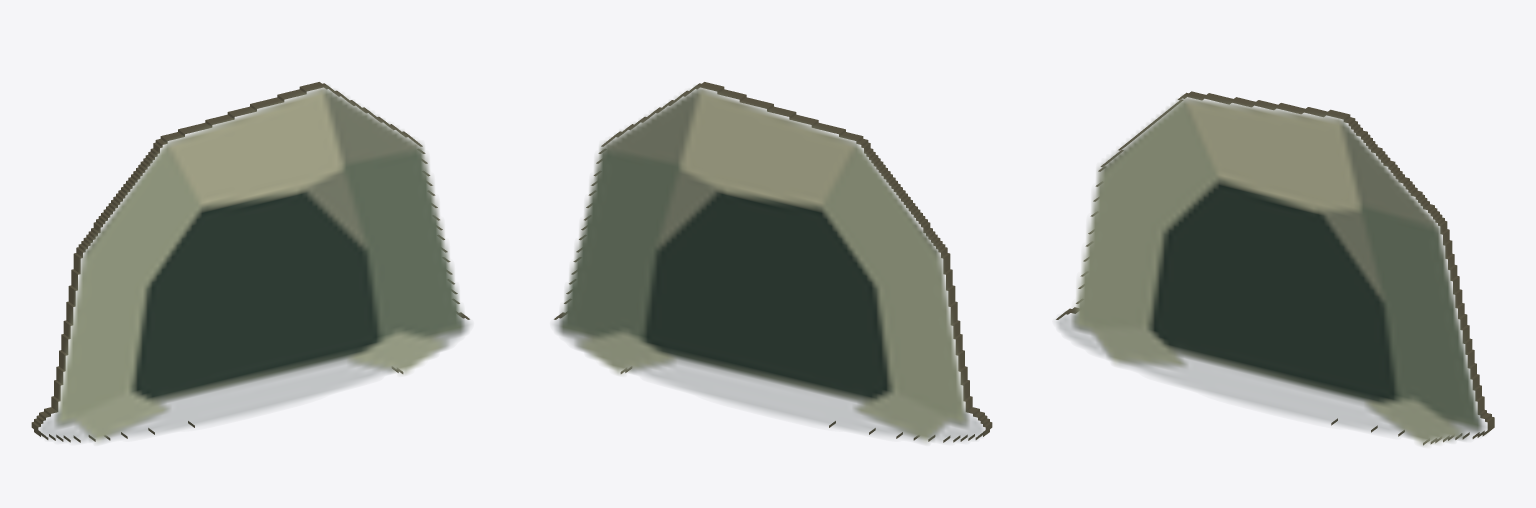
File: CaveMouth.glb
The picture shows the model from 3 angles, left to right: view 1: azimuth 30°, elevation 25°; view 2: azimuth 150°, elevation 25°; view 3: azimuth 330°, elevation 25°; orthographic projection.
Parts seen in each view (by area): view 1: Visual; view 2: Visual; view 3: Visual.
Part boxes in pixels (<box>): Visual: <box>31,82,469,443</box>; Visual: <box>554,82,992,443</box>; Visual: <box>1055,91,1494,446</box>.
Size of the model in its own units: 3.2 by 2.3 by 0.08.
Materials: 3 (2 with a texture image).
